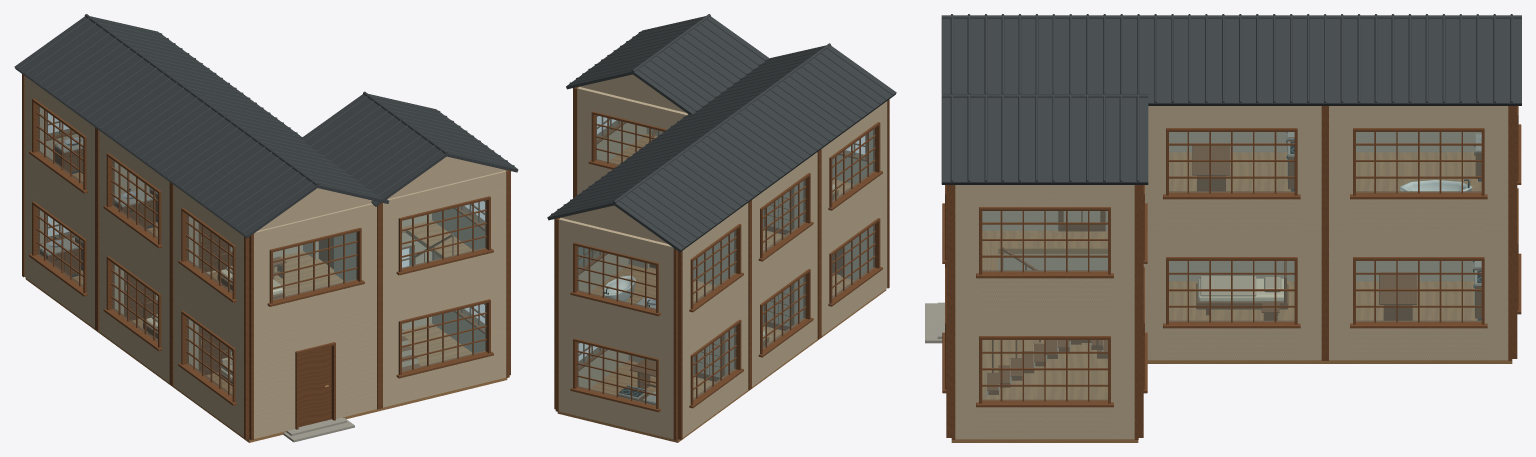
The model's file is bld-lanternhouse-9c377b6b0280.glb.
The picture shows the model from 3 angles, left to right: view 1: azimuth 30°, elevation 25°; view 2: azimuth 150°, elevation 25°; view 3: azimuth 270°, elevation 25°; orthographic projection. The views are drawn at different scales.
Visible parts, largest first — view 1: surface_linen, surface_graphite, surface_walnut, surface_Optical_smoke, surface_oak, surface_stone; view 2: surface_linen, surface_graphite, surface_walnut, surface_Optical_smoke, surface_oak, surface_porcelain; view 3: surface_linen, surface_graphite, surface_walnut, surface_Optical_smoke, surface_oak, surface_stone, surface_ivory, surface_porcelain.
Part boxes in pixels (x1,y1,x2,y2): surface_linen: (24, 76, 506, 438); surface_graphite: (14, 14, 518, 277); surface_walnut: (22, 74, 510, 440); surface_Optical_smoke: (38, 106, 485, 396); surface_oak: (25, 172, 507, 442); surface_stone: (40, 138, 354, 442); surface_linen: (559, 74, 887, 439); surface_graphite: (547, 14, 896, 252); surface_walnut: (554, 87, 889, 440); surface_Optical_smoke: (577, 115, 874, 405); surface_oak: (557, 134, 886, 442); surface_porcelain: (601, 275, 635, 301); surface_linen: (955, 106, 1508, 439); surface_graphite: (941, 14, 1521, 320); surface_walnut: (942, 106, 1521, 439); surface_Optical_smoke: (982, 132, 1481, 400); surface_oak: (951, 152, 1512, 442); surface_stone: (925, 132, 1481, 343); surface_ivory: (1198, 278, 1283, 301); surface_porcelain: (1400, 179, 1472, 191).
Size of the model in its own units: 8.45 by 7.3 by 12.78.
12 materials, 4 textured.
